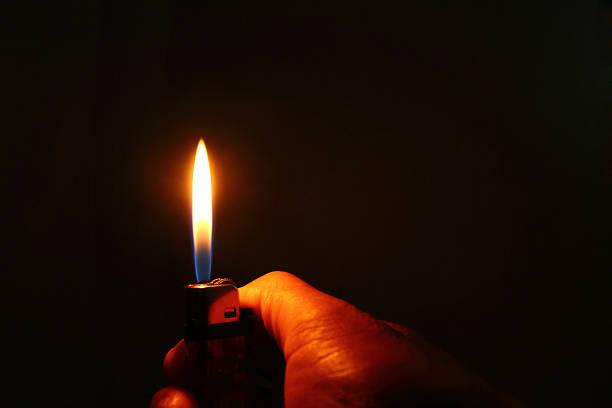Fire: (184, 133, 220, 285)
